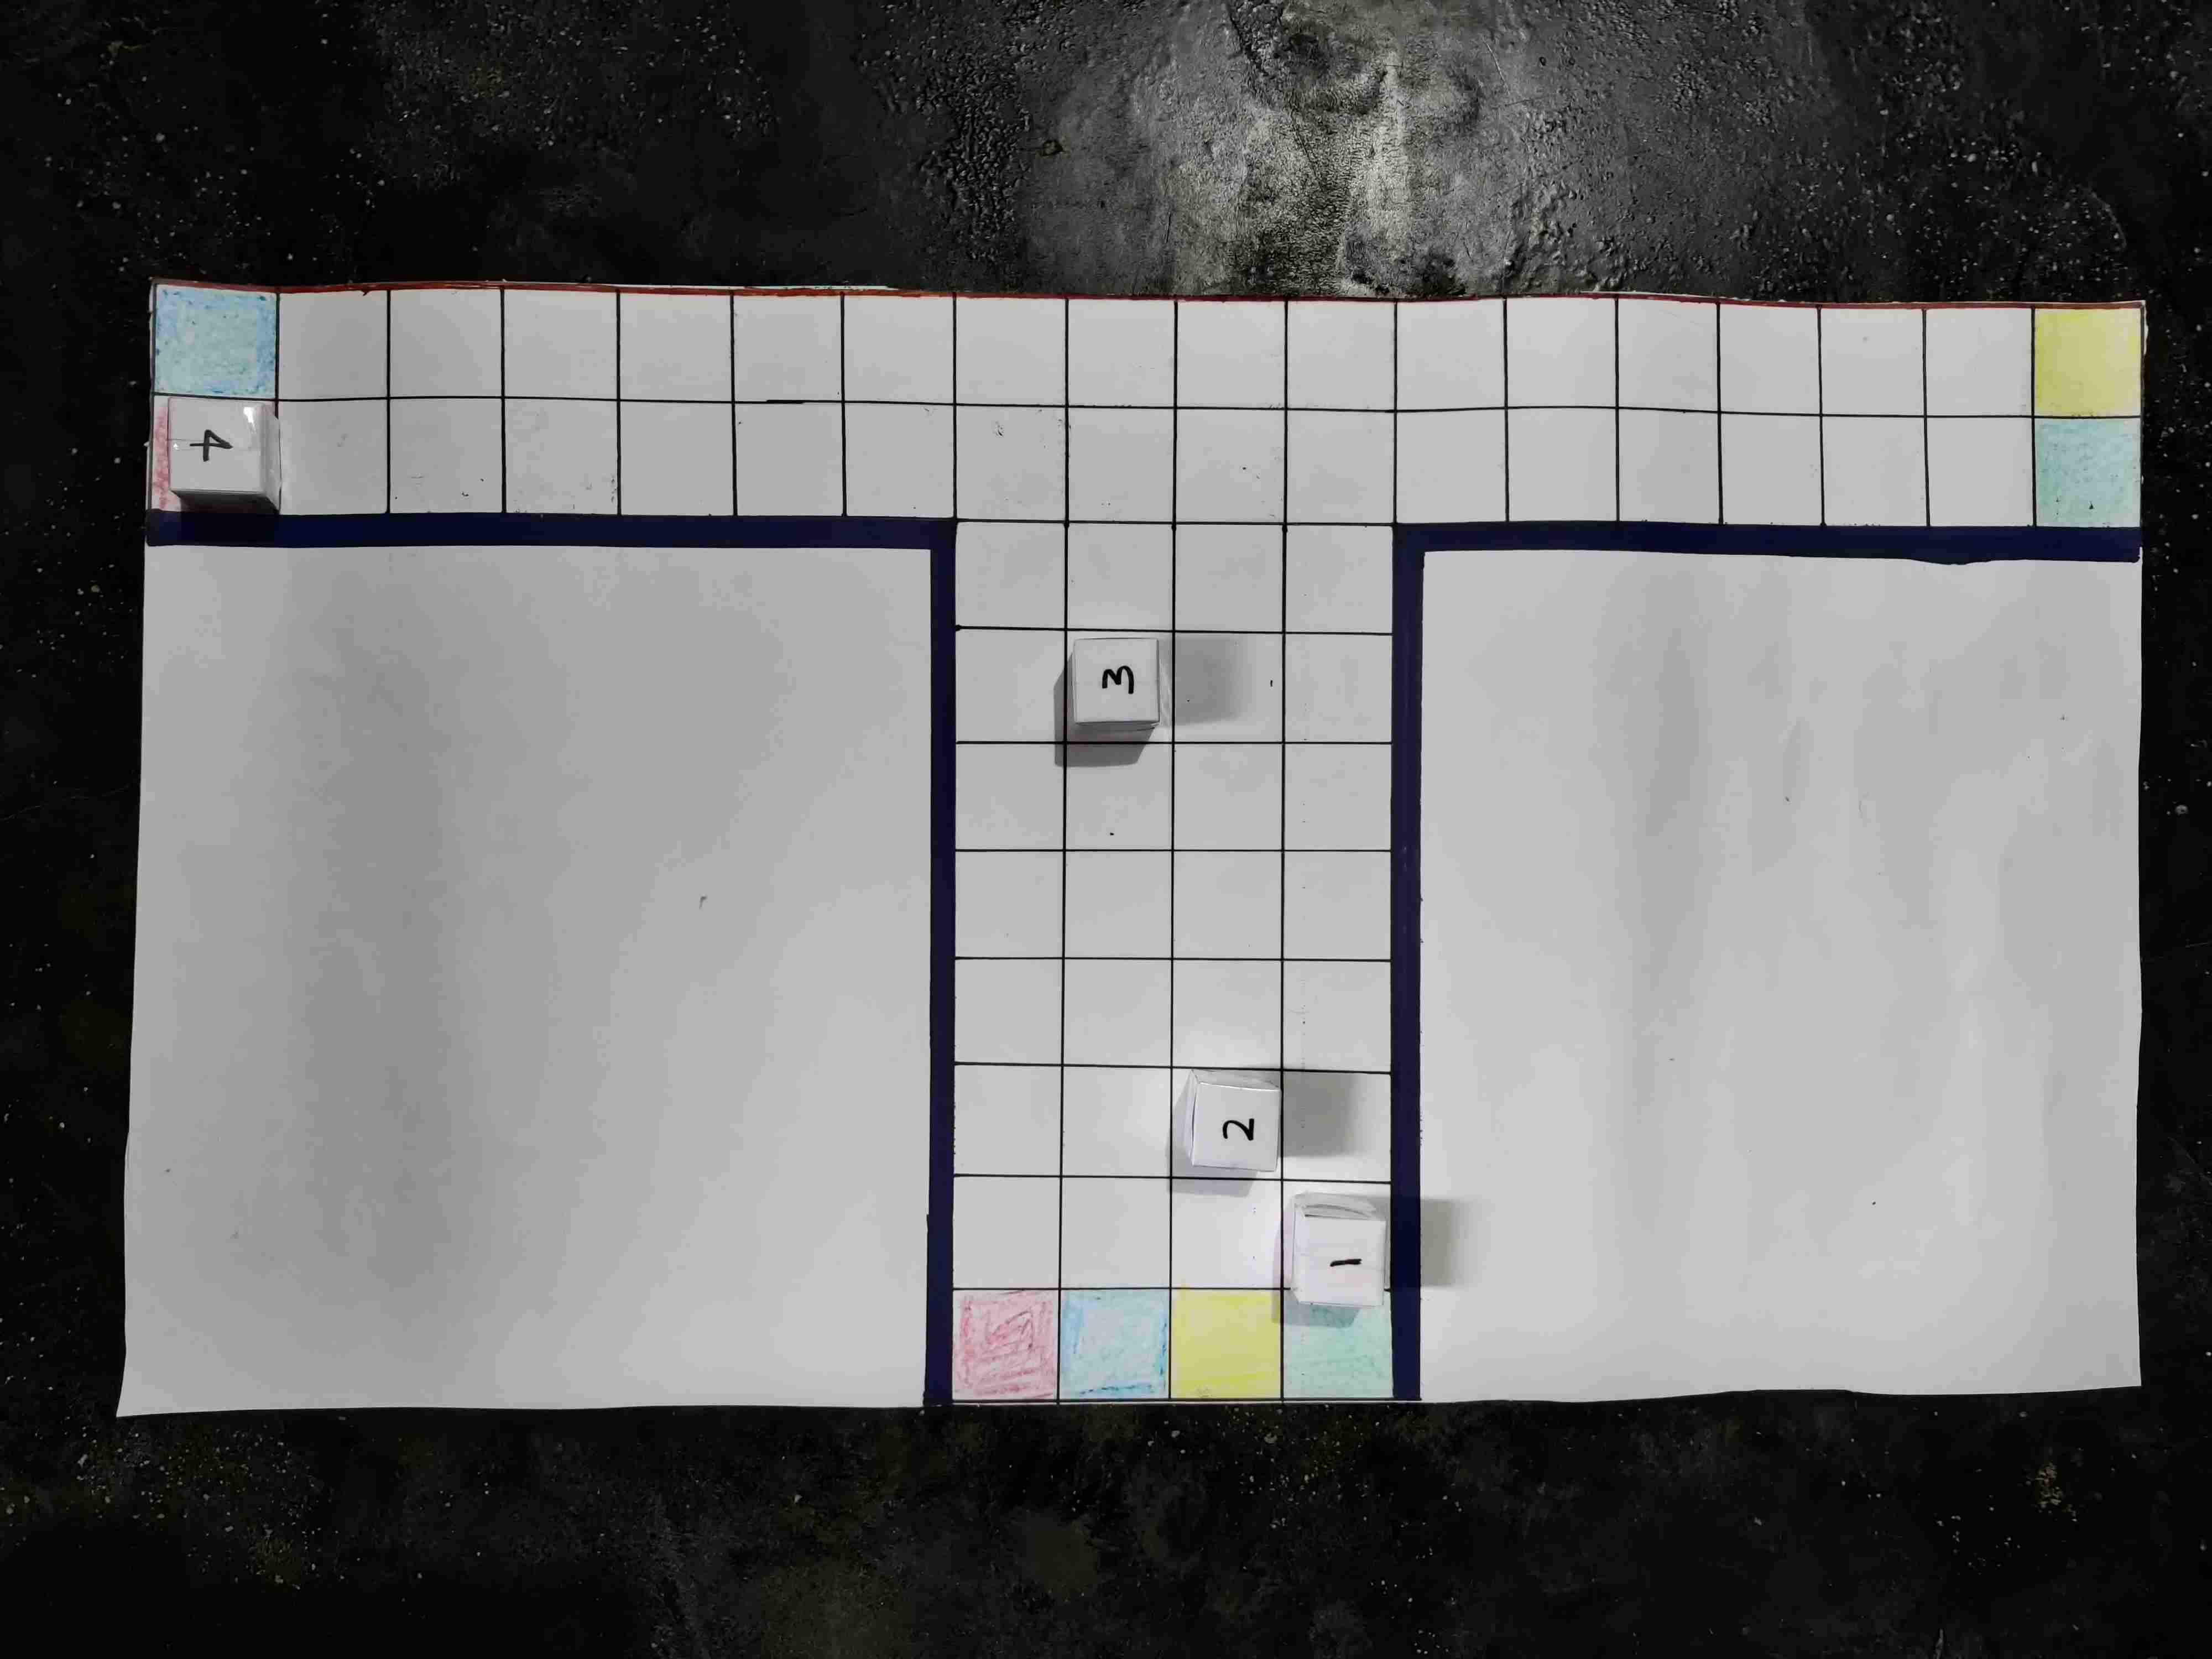arena: (110, 376, 2067, 1391)
bot: (1097, 1323, 1197, 1413), (895, 885, 975, 972), (1204, 892, 1287, 971), (343, 1359, 428, 1436)
